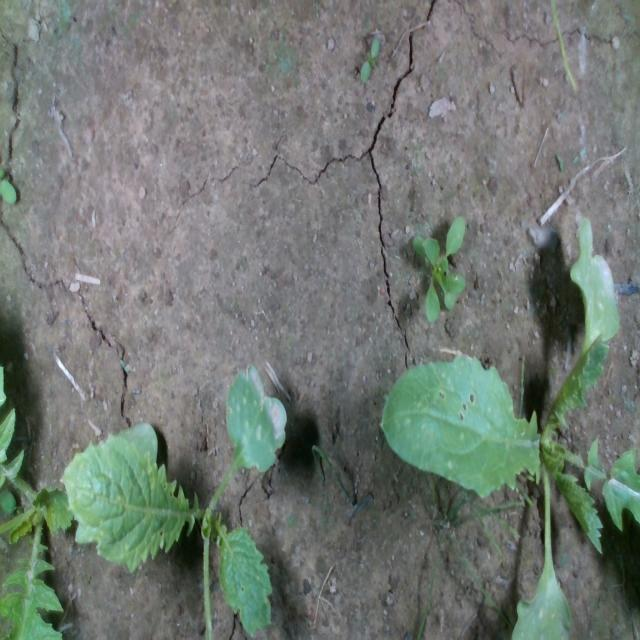weed: (360, 34, 380, 82)
